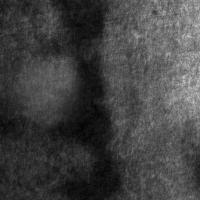patches: (50, 55, 124, 200), (128, 115, 200, 200), (10, 51, 86, 127), (51, 1, 107, 53)
